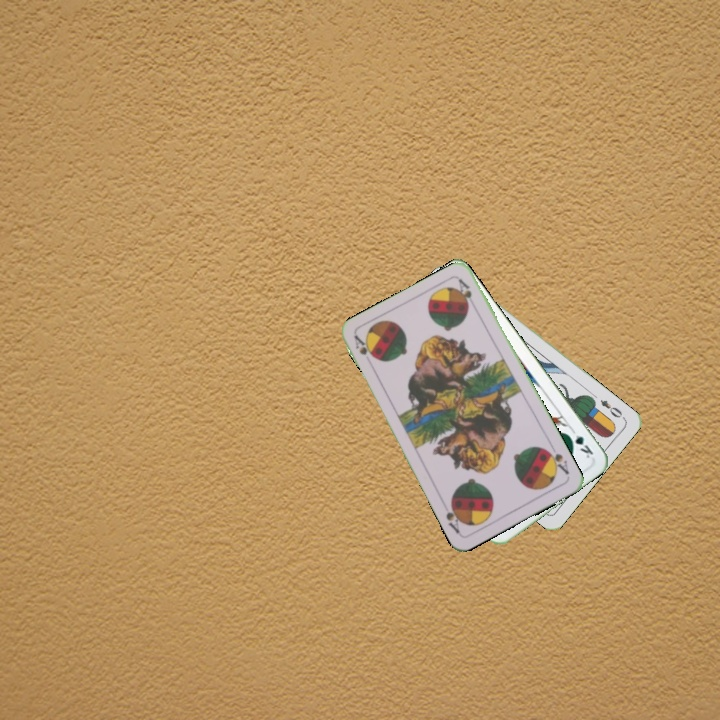EO: (596, 395, 625, 421)
GK: (563, 428, 596, 461)
SA: (541, 445, 572, 477), (350, 332, 377, 362)
